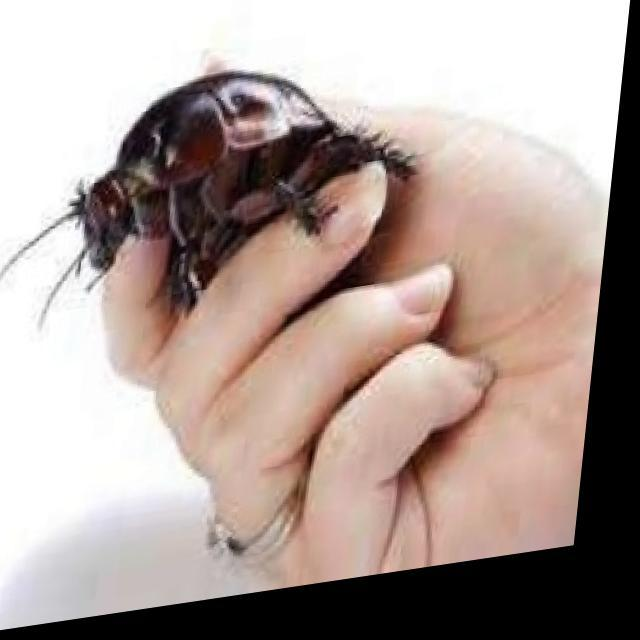cockroach: (51, 55, 413, 296)
